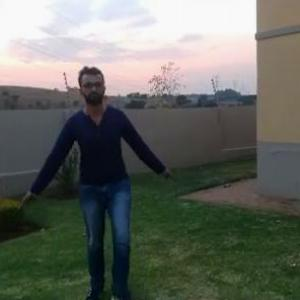land: (32, 70, 172, 286)
